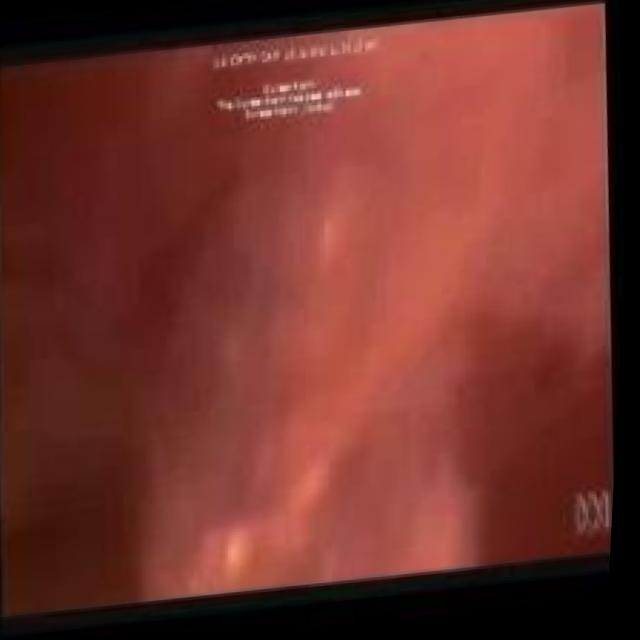fire: (213, 505, 278, 582)
